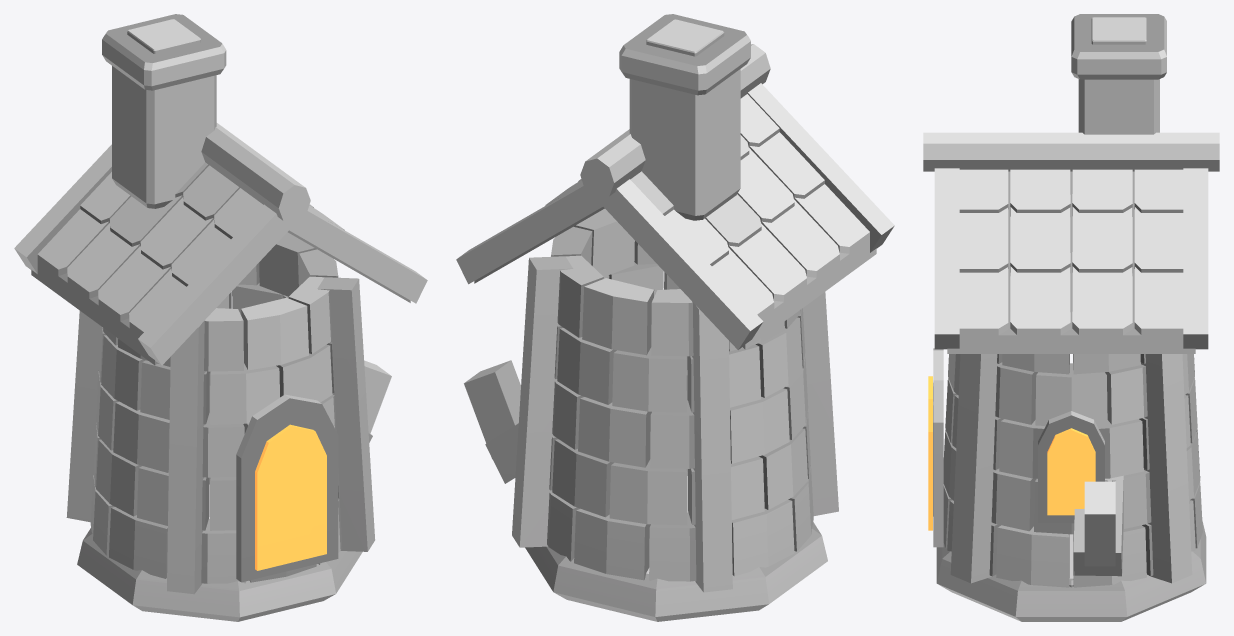
The model's file is furnace.glb.
3 views of the same model, side by side, from view 1: azimuth 30°, elevation 25°; view 2: azimuth 150°, elevation 25°; view 3: azimuth 270°, elevation 25° (orthographic). The views are drawn at different scales.
Parts seen in each view (by area): view 1: furnace.001; view 2: furnace.001; view 3: furnace.001.
Part boxes in pixels (left/top/right/bottom): furnace.001: left=14, top=14, right=427, bottom=621; furnace.001: left=456, top=14, right=894, bottom=621; furnace.001: left=923, top=14, right=1219, bottom=621.
Bounding box in the file's own units: 1.53 × 2.43 × 1.24.
